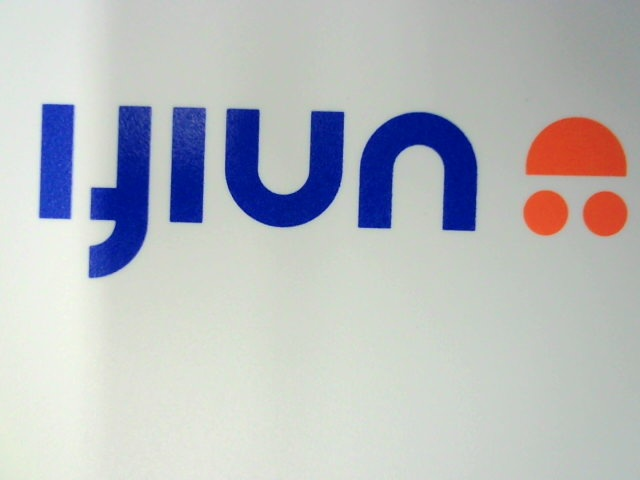BN_unifi: (25, 93, 629, 284)
